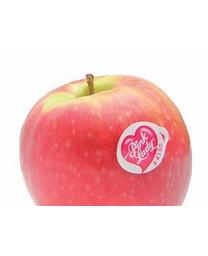apple: (18, 73, 192, 206)
